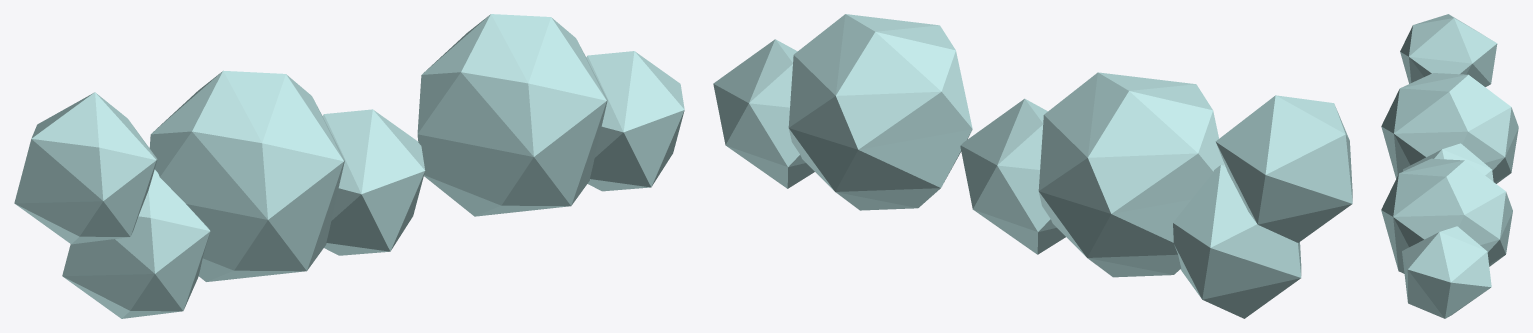
File: cloud-011.glb
3 renders of one model, left to right at view 1: azimuth 30°, elevation 25°; view 2: azimuth 150°, elevation 25°; view 3: azimuth 270°, elevation 25°, orthographic. The views are drawn at different scales.
Visible parts, largest first — view 1: cloud 12_34; view 2: cloud 12_34; view 3: cloud 12_34.
Part boxes in pixels (x1,y1,x2,y2): cloud 12_34: (14, 14, 684, 318); cloud 12_34: (713, 14, 1352, 318); cloud 12_34: (1381, 14, 1518, 318).
Size of the model in its own units: 4.64 by 1.58 by 1.31.
